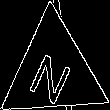N_NE: (27, 40, 80, 103)
